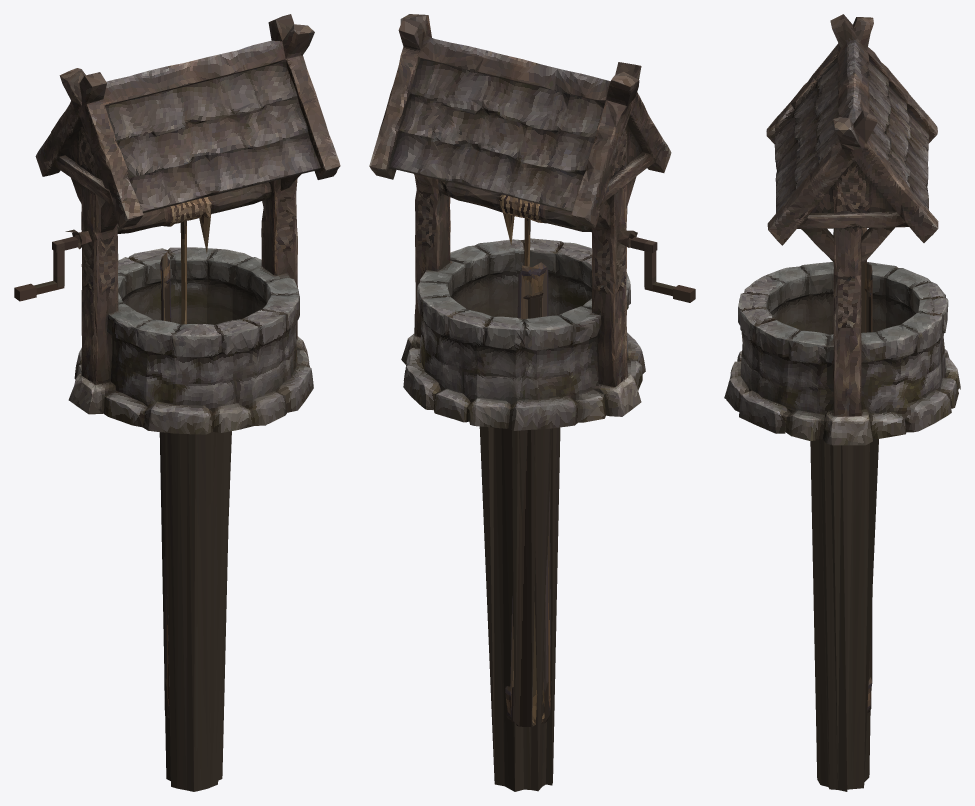
Rendered from puits.glb.
3 renders of one model, left to right at view 1: azimuth 30°, elevation 25°; view 2: azimuth 150°, elevation 25°; view 3: azimuth 270°, elevation 25°, orthographic. The views are drawn at different scales.
Visible parts, largest first — view 1: puits; view 2: puits; view 3: puits.
Boxes of the visible parts, bbox=[...] form: puits: bbox=[14, 14, 340, 791]; puits: bbox=[369, 14, 695, 791]; puits: bbox=[724, 14, 960, 791].
Bounding box in the file's own units: 2.76 × 6.68 × 2.
1 material, 1 textured.
